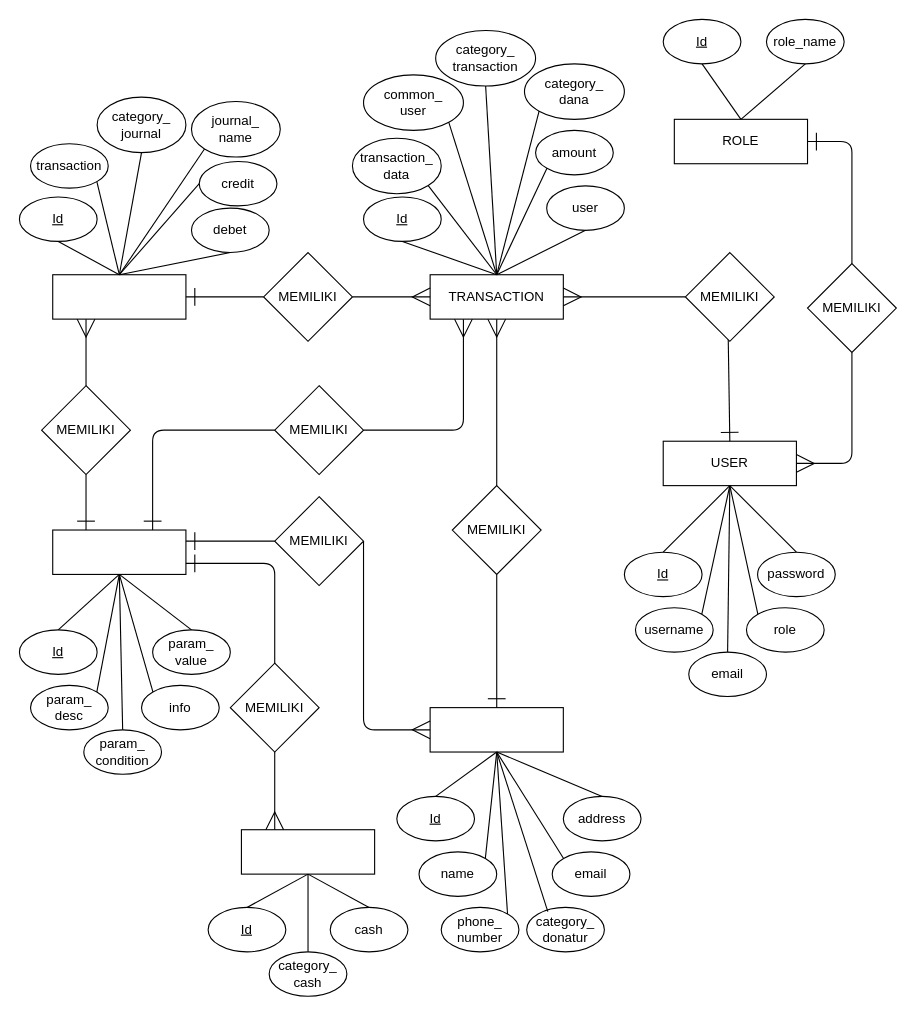
Some shapes in this 916 by 1016 pixel diagram are drawn without their labels. The shapes that lost their labels are listed below. From the top down, each one's centre as x and y in pixels, then its label:
the point at 119,296: JOURNAL
the point at 119,551: GLOBAL_PARAM
the point at 496,729: COMMON_USER
the point at 307,851: DANA
